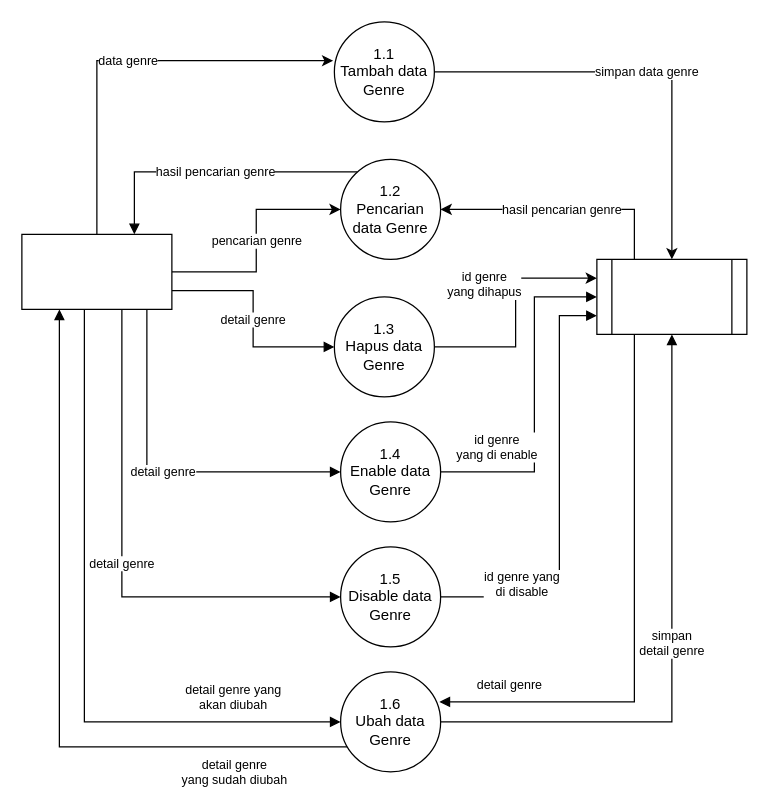
This 769x809 diagram has some shape labels left out. The centre of each missing label's shape, as x and y in pixels:
Administrator: [96,271]
Daftar Genre: [671,296]
